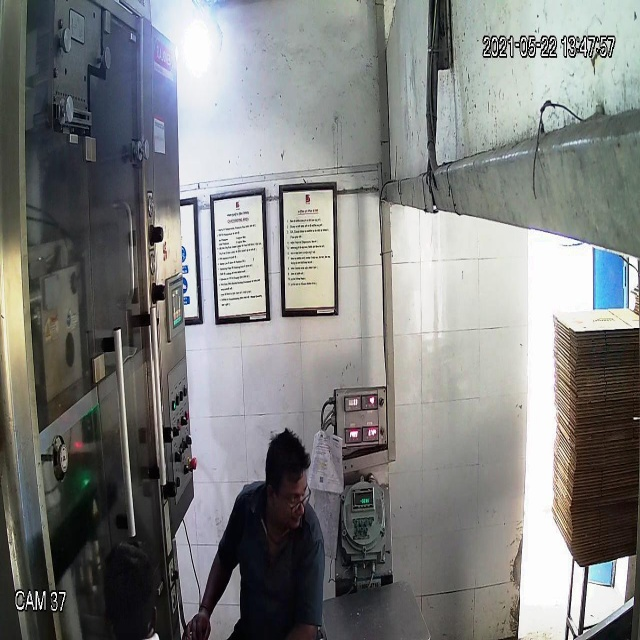Gafas: (267, 483, 314, 513)
